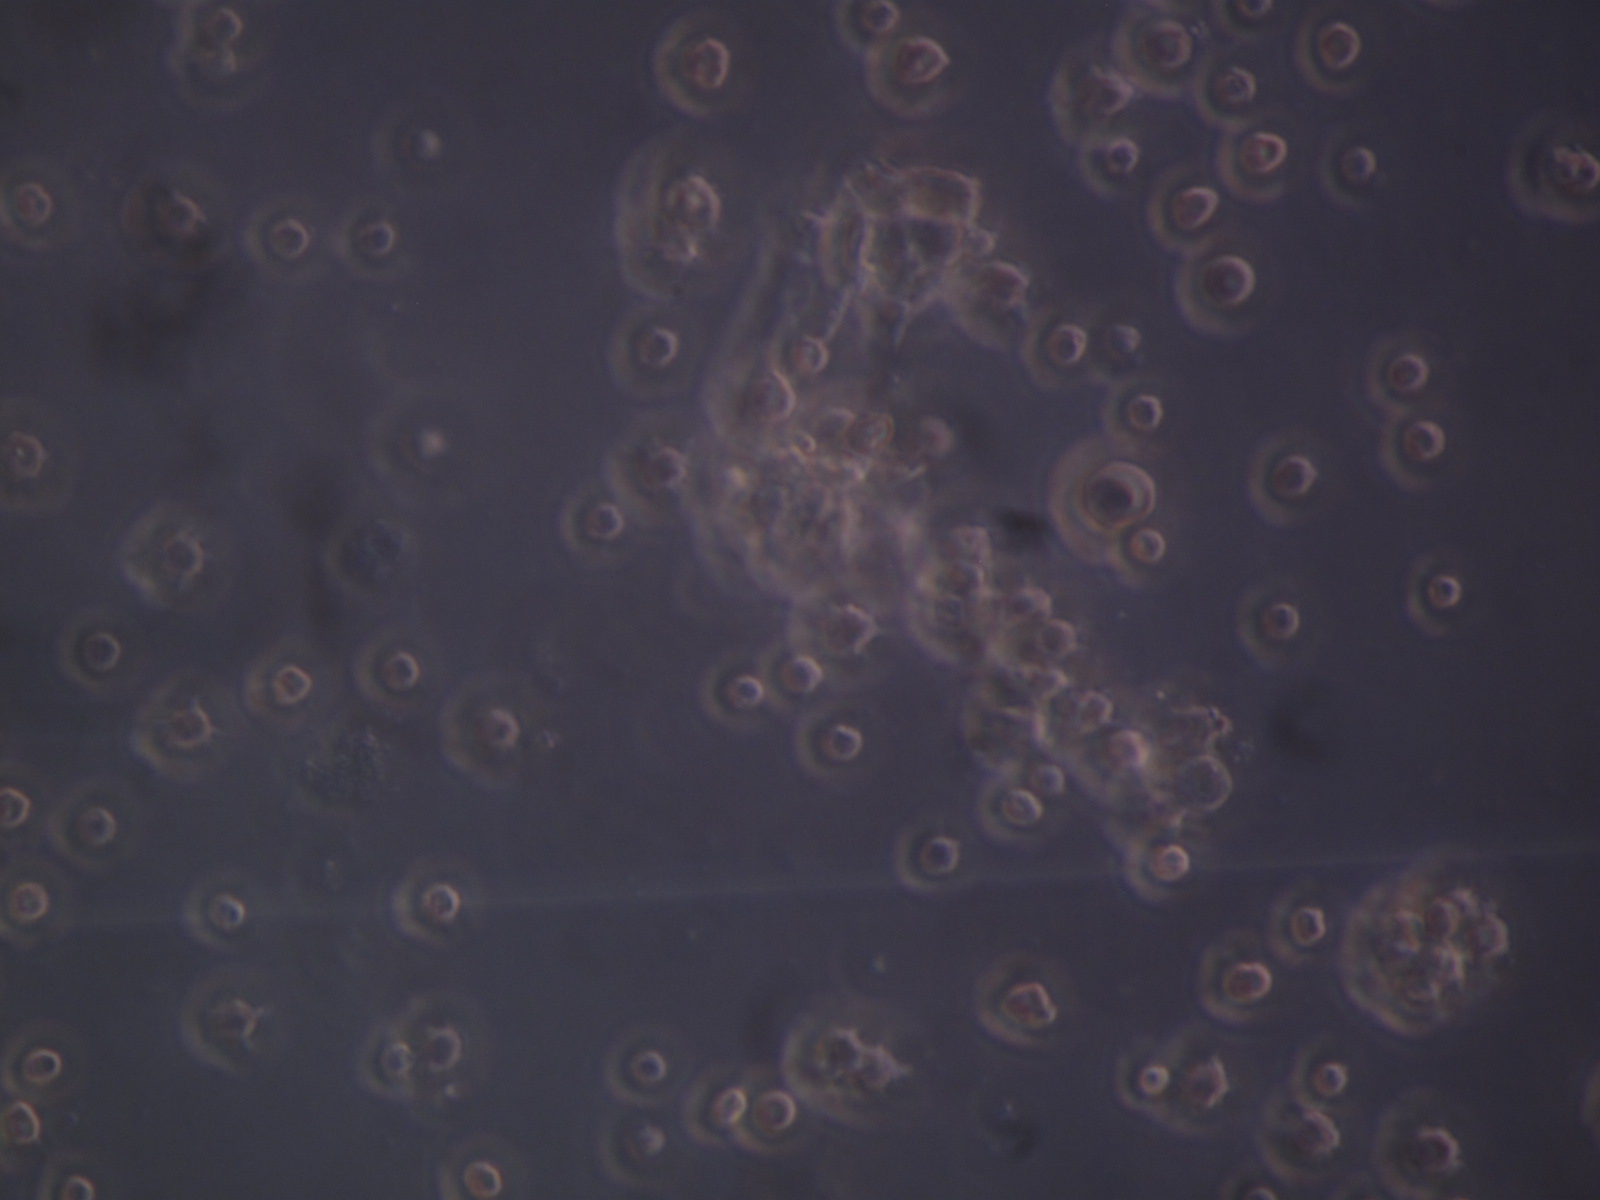hemo: (1052, 434, 1153, 563), (1374, 1085, 1484, 1200), (368, 377, 459, 500), (609, 153, 728, 243), (122, 169, 227, 270), (1508, 108, 1600, 222), (397, 993, 490, 1103), (790, 579, 882, 684), (438, 669, 517, 792), (601, 416, 684, 528), (115, 503, 205, 605), (1174, 239, 1261, 342), (1, 395, 77, 507), (1157, 1030, 1236, 1136), (611, 212, 706, 300), (976, 948, 1060, 1046), (734, 1065, 823, 1155), (1049, 55, 1134, 147), (181, 967, 258, 1068), (700, 359, 797, 439), (1197, 925, 1274, 1025), (1148, 160, 1226, 257), (868, 32, 955, 118), (1117, 8, 1201, 98), (947, 256, 1027, 350), (653, 20, 729, 117), (780, 1012, 863, 1100), (44, 774, 116, 875), (3, 1020, 89, 1100), (1027, 305, 1107, 389), (132, 683, 210, 770), (1236, 570, 1301, 673), (603, 308, 678, 397), (1255, 1108, 1343, 1182), (394, 852, 464, 945), (1249, 434, 1320, 523), (1295, 11, 1369, 97), (558, 478, 627, 568), (606, 1024, 680, 1108), (823, 1042, 894, 1128), (243, 192, 314, 279), (336, 195, 406, 284), (1220, 125, 1295, 205), (436, 1132, 524, 1200), (243, 639, 315, 721), (1364, 326, 1431, 413), (1267, 875, 1329, 968), (1102, 371, 1170, 453), (1378, 408, 1445, 492), (893, 816, 963, 894), (795, 706, 860, 788), (1196, 45, 1259, 130), (54, 613, 118, 695), (702, 654, 771, 730), (1123, 824, 1192, 900), (365, 108, 443, 175), (1295, 1036, 1361, 1114), (1403, 551, 1461, 639), (763, 634, 824, 718), (1116, 1030, 1175, 1116), (168, 42, 244, 107), (978, 775, 1048, 846), (597, 1113, 666, 1184), (1076, 129, 1143, 202), (360, 1024, 420, 1105), (688, 1061, 746, 1145), (355, 633, 422, 705), (1322, 129, 1380, 211), (183, 876, 244, 952), (1, 174, 57, 255), (1, 860, 48, 947), (1106, 529, 1172, 591), (766, 326, 834, 386), (833, 1, 900, 61), (1207, 1, 1296, 40), (1170, 755, 1235, 808), (1390, 977, 1448, 1034), (173, 1, 244, 47), (38, 1155, 107, 1200), (1017, 754, 1073, 809), (1, 1092, 47, 1155), (1459, 914, 1511, 966), (1100, 725, 1149, 778), (1066, 684, 1114, 737), (1034, 618, 1082, 668), (1424, 939, 1466, 984), (1387, 908, 1426, 955), (1, 776, 33, 832), (1425, 897, 1459, 935)
